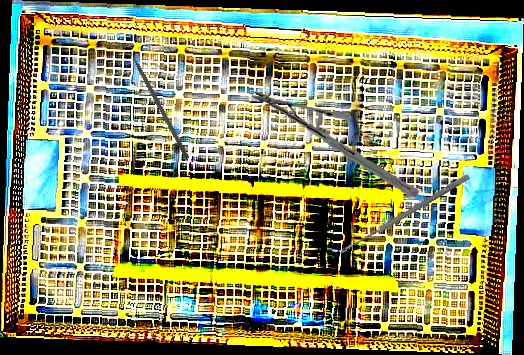Hook Surgical: (126, 44, 191, 160)
Needle Holder: (246, 90, 424, 198)
Surgical Spoon: (337, 172, 471, 257)
